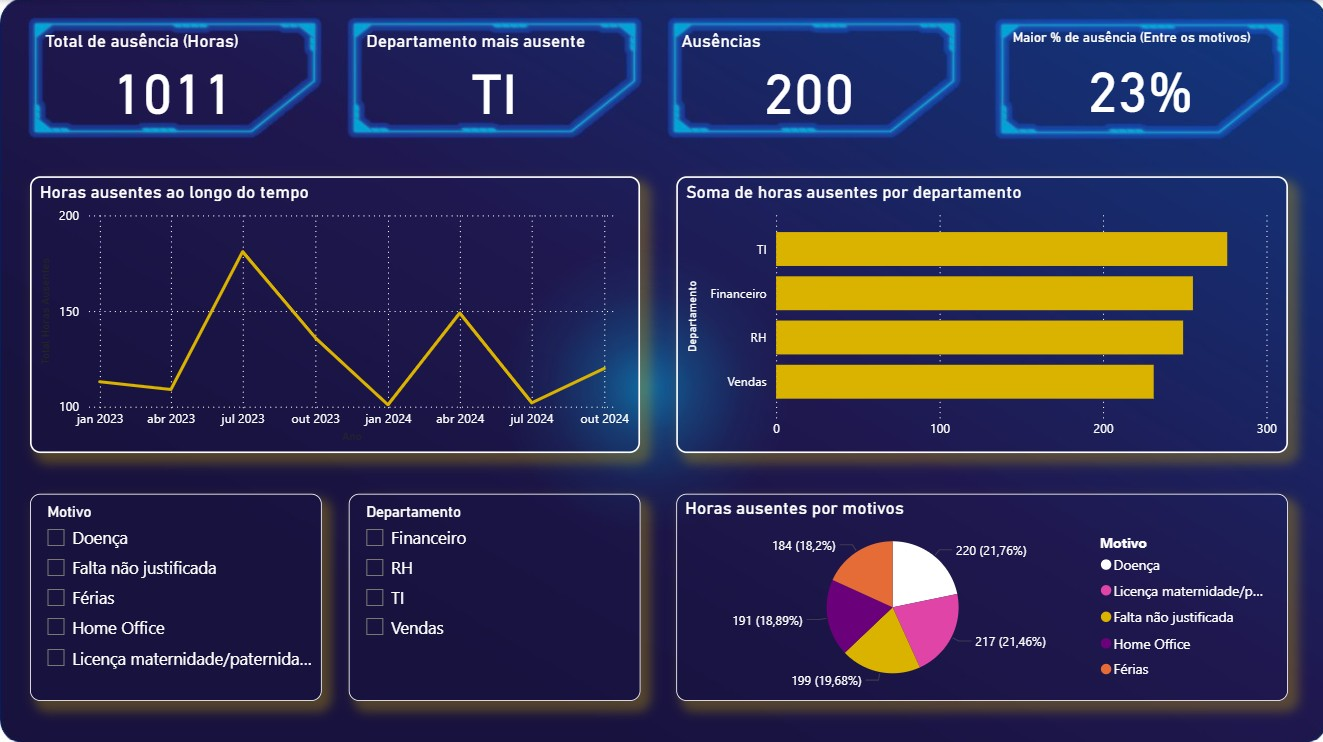

Layout of this report page (visuals, bound fields, positions):
{"tool":"powerbi","page":{"name":"Página 1","canvas":[1280,720],"ordinal":0},"visuals":[{"type":"card","title":"Total de ausência (Horas)","fields":{"Values":["Dados.Total Horas Ausentes"]},"box":[38.4,28.8,256.6,91.9],"z":0},{"type":"card","title":"Departamento mais ausente","fields":{"Values":["Dados.Departamento com Mais Ausências"]},"box":[348.5,28.8,256.6,91.9],"z":1},{"type":"card","title":"Ausências","fields":{"Values":["Dados.Ausências por Motivo"]},"box":[653.2,28.8,256.6,91.9],"z":2},{"type":"card","title":"Maior % de ausência (Entre os motivos)","fields":{"Values":["Dados.% Motivo Mais Frequente"]},"box":[972.9,28.8,256.6,91.9],"z":3},{"type":"lineChart","title":"Horas ausentes ao longo do tempo","fields":{"Y":["Dados.Total Horas Ausentes"],"Category":["Dados.Data.Variation.Hierarquia de datas.Ano","Dados.Data.Variation.Hierarquia de datas.Trimestre"]},"box":[28.8,170.2,588.7,267.6],"z":4},{"type":"slicer","fields":{"Values":["Dados.Motivo"]},"box":[28.8,476.2,281.3,200.3],"z":5},{"type":"slicer","fields":{"Values":["Dados.Departamento"]},"box":[336.2,476.2,281.3,200.3],"z":6},{"type":"pieChart","title":"Horas ausentes por motivos","fields":{"Category":["Dados.Motivo"],"Y":["Sum(Dados.Horas Ausentes)"]},"box":[653.2,476.2,590.1,200.3],"z":9},{"type":"barChart","title":"Soma de horas ausentes por departamento","fields":{"Y":["Sum(Dados.Horas Ausentes)"],"Category":["Dados.Departamento"]},"box":[653.2,170.2,590.1,267.6],"z":10}]}

Visuals, with their boxes in screenshot pixels (x1, y1, x2, y2), scaled from the page's 1280x720 canvas onto the 1323x742 screenshot:
"Total de ausência (Horas)" card: [x1=40, y1=30, x2=305, y2=124]
"Departamento mais ausente" card: [x1=360, y1=30, x2=625, y2=124]
"Ausências" card: [x1=675, y1=30, x2=940, y2=124]
"Maior % de ausência (Entre os motivos)" card: [x1=1006, y1=30, x2=1271, y2=124]
"Horas ausentes ao longo do tempo" lineChart: [x1=30, y1=175, x2=638, y2=451]
slicer - Dados.Motivo: [x1=30, y1=491, x2=321, y2=697]
slicer - Dados.Departamento: [x1=347, y1=491, x2=638, y2=697]
"Horas ausentes por motivos" pieChart: [x1=675, y1=491, x2=1285, y2=697]
"Soma de horas ausentes por departamento" barChart: [x1=675, y1=175, x2=1285, y2=451]
